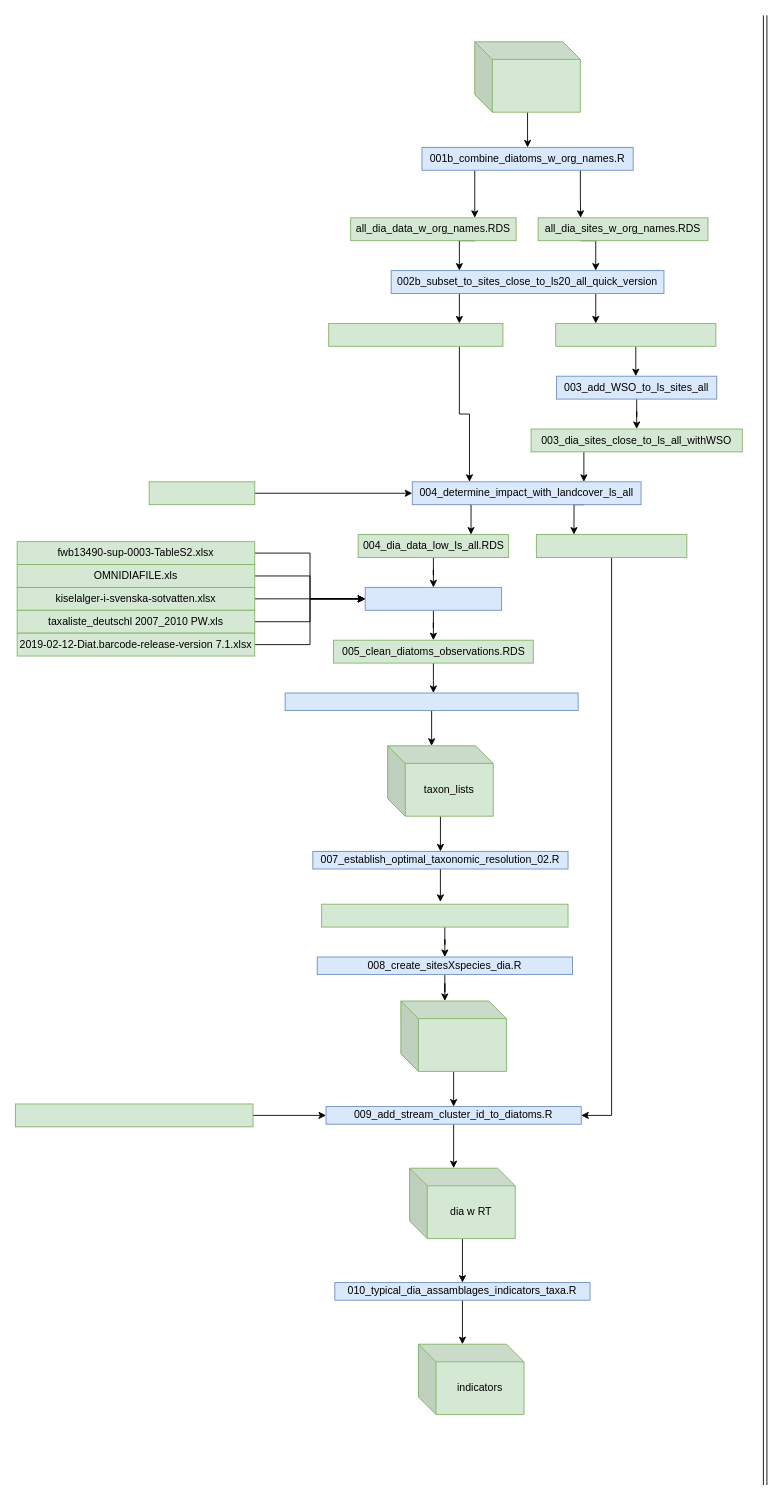
This 782x1500 diagram has some shape labels left out. Each missing label, with the box of its shape:
002_dia_data_close_to_ls_large: (328, 323, 503, 346)
002_dia_sites_close_to_ls_large: (555, 323, 716, 346)
004_dia_sites_low_ls_all.RDS: (535, 534, 687, 557)
005_harmonize_diatoms.R: (364, 587, 502, 610)
006_establish_optimal_taxonomic_resolution_01.R: (284, 692, 578, 711)
007_2020-08-18all_dia_optimal_taxon_75.RDS: (321, 903, 568, 927)
Individual data sets: (474, 41, 580, 112)
m_river_fec_broad_type.shp: (15, 1103, 253, 1127)
reduced_clc.RDS: (148, 481, 255, 505)
sitesXspecies: (400, 1000, 506, 1071)
